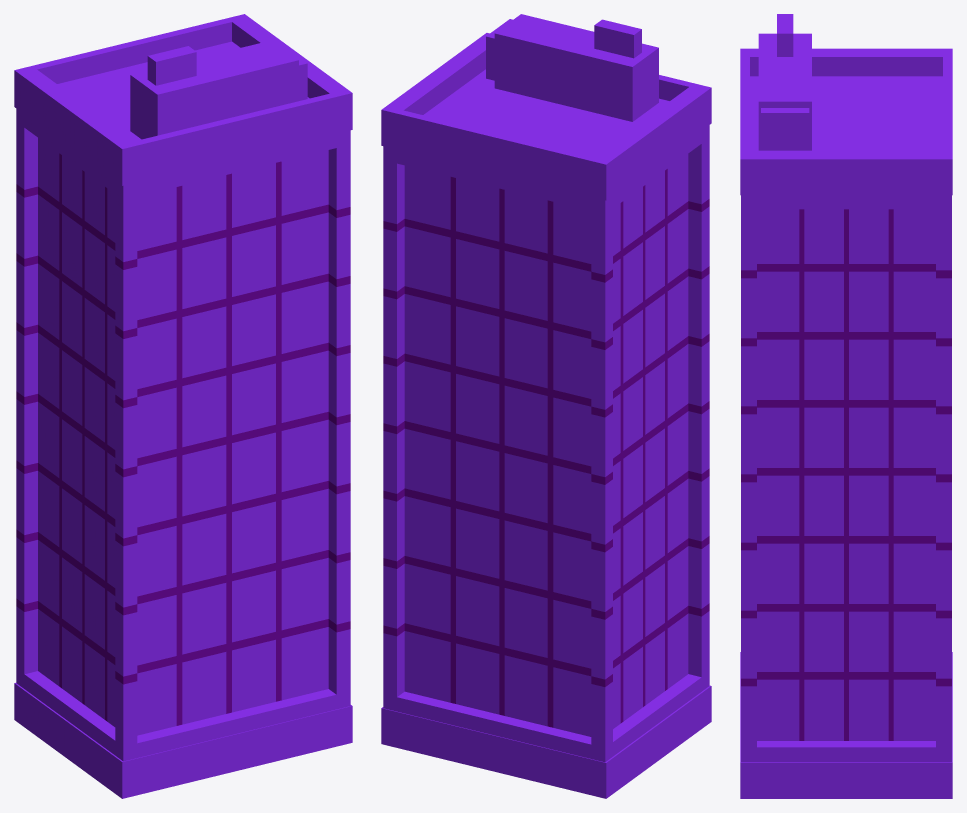
Rendered from Building4.fbx.
The picture shows the model from 3 angles, left to right: view 1: azimuth 30°, elevation 25°; view 2: azimuth 150°, elevation 25°; view 3: azimuth 270°, elevation 25°; orthographic projection. The views are drawn at different scales.
Parts seen in each view (by area): view 1: Building4; view 2: Building4; view 3: Building4.
Part boxes in pixels (left/top/right/bottom): Building4: left=14, top=14, right=352, bottom=798; Building4: left=381, top=14, right=711, bottom=798; Building4: left=740, top=14, right=952, bottom=798.
Size of the model in its own units: 47.65 by 140 by 38.67.
